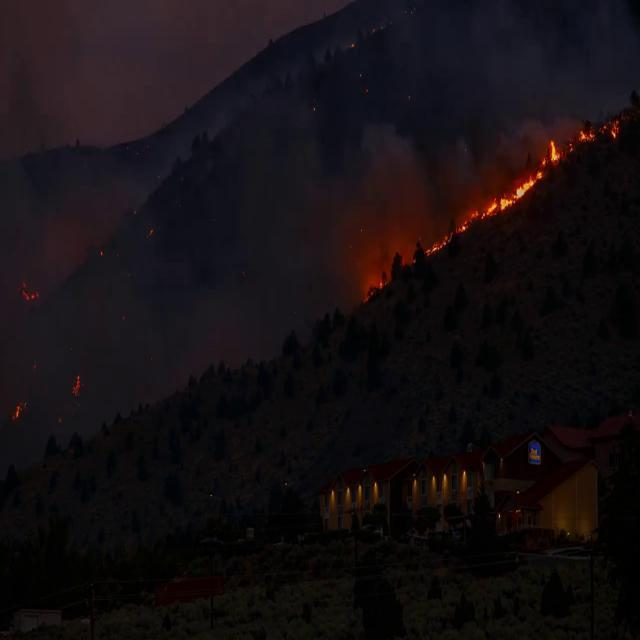Fire: (426, 208, 480, 257), (489, 169, 542, 215), (575, 125, 619, 142), (20, 277, 40, 303), (364, 281, 384, 303), (8, 401, 26, 422), (550, 138, 562, 162), (70, 373, 82, 395)
Smoke: (233, 86, 345, 294), (469, 6, 634, 124), (42, 116, 141, 278), (353, 118, 431, 206)
